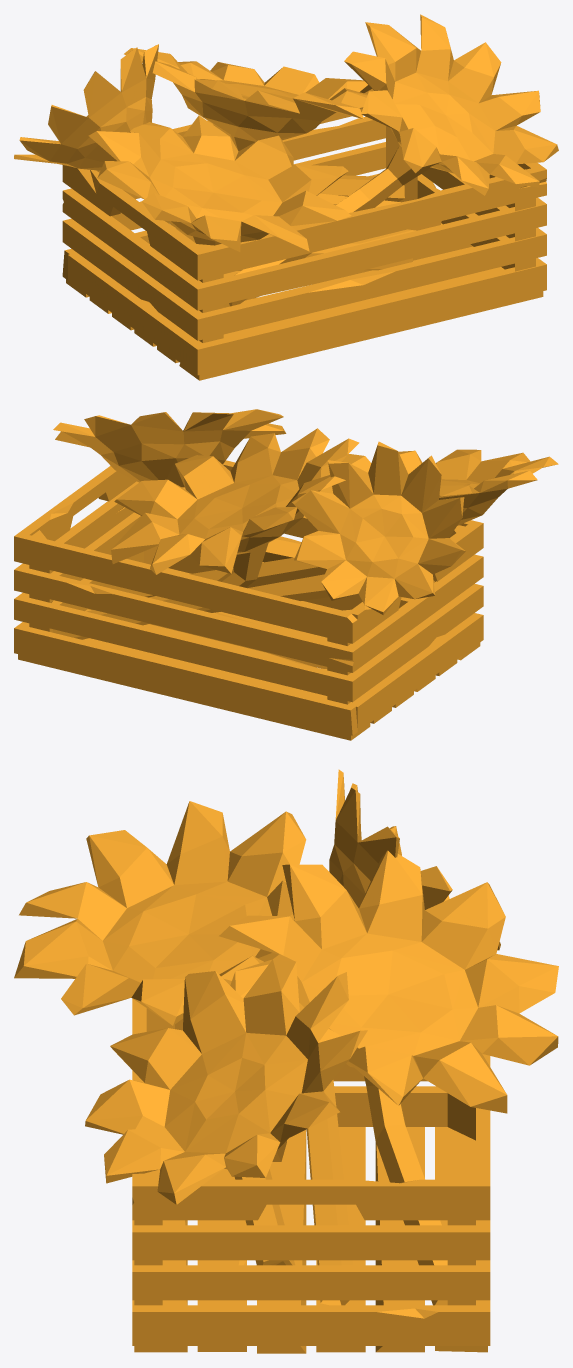
The model's file is SM_Crate_Wood_Medium_Sunflower_Flowers.fbx.
3 renders of one model, top to bottom at view 1: azimuth 30°, elevation 25°; view 2: azimuth 150°, elevation 25°; view 3: azimuth 270°, elevation 25°, orthographic. The views are drawn at different scales.
Visible parts, largest first — view 1: crate-wood-medium-sunflower-flowers; view 2: crate-wood-medium-sunflower-flowers; view 3: crate-wood-medium-sunflower-flowers.
Boxes of the visible parts, x1,y1,x2,y2 form: crate-wood-medium-sunflower-flowers: [14, 14, 558, 380]; crate-wood-medium-sunflower-flowers: [14, 409, 558, 740]; crate-wood-medium-sunflower-flowers: [14, 769, 558, 1353].
Size of the model in its own units: 0.82 by 0.4434 by 0.6191.
